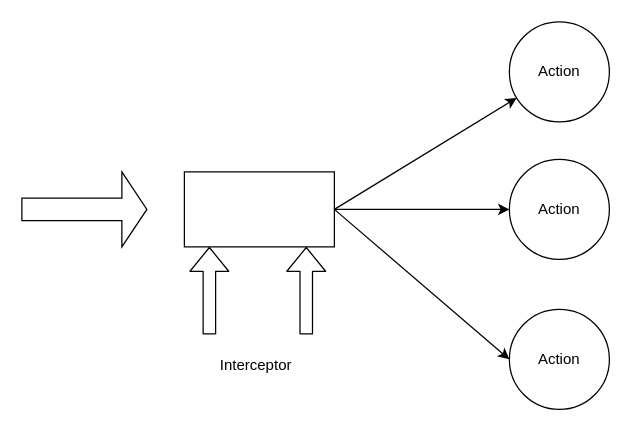
The diagram is 631 pixels wide and 431 high, and some of its shapes have lost their labels. The shapes that lost their labels are listed below. From the top down, each one's box as (x1, y1, x2, y2) in pixels, then its label:
(21, 171, 147, 247): Request
(183, 171, 334, 247): Dispacher
